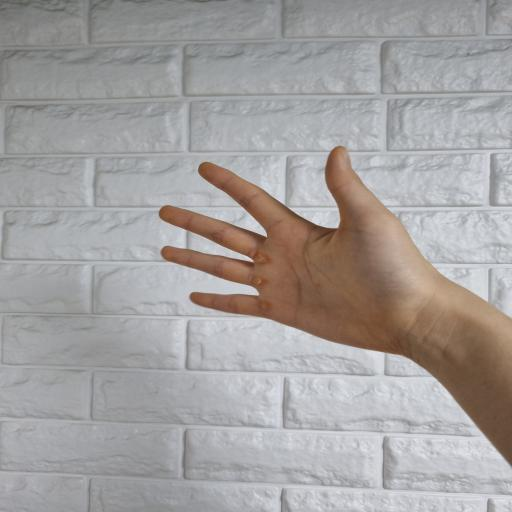Paper: (158, 145, 452, 363)
